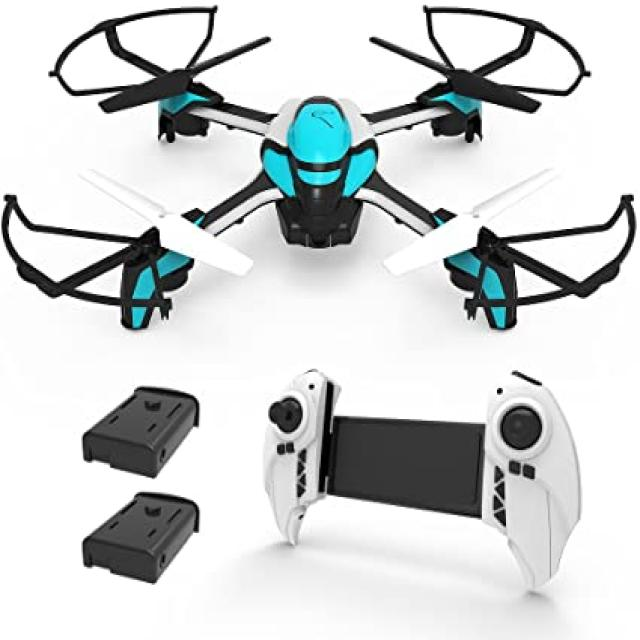drone: (0, 0, 638, 358)
